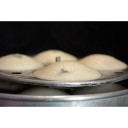idly: (37, 61, 98, 81), (1, 53, 43, 72), (79, 55, 127, 70), (33, 47, 78, 63)
